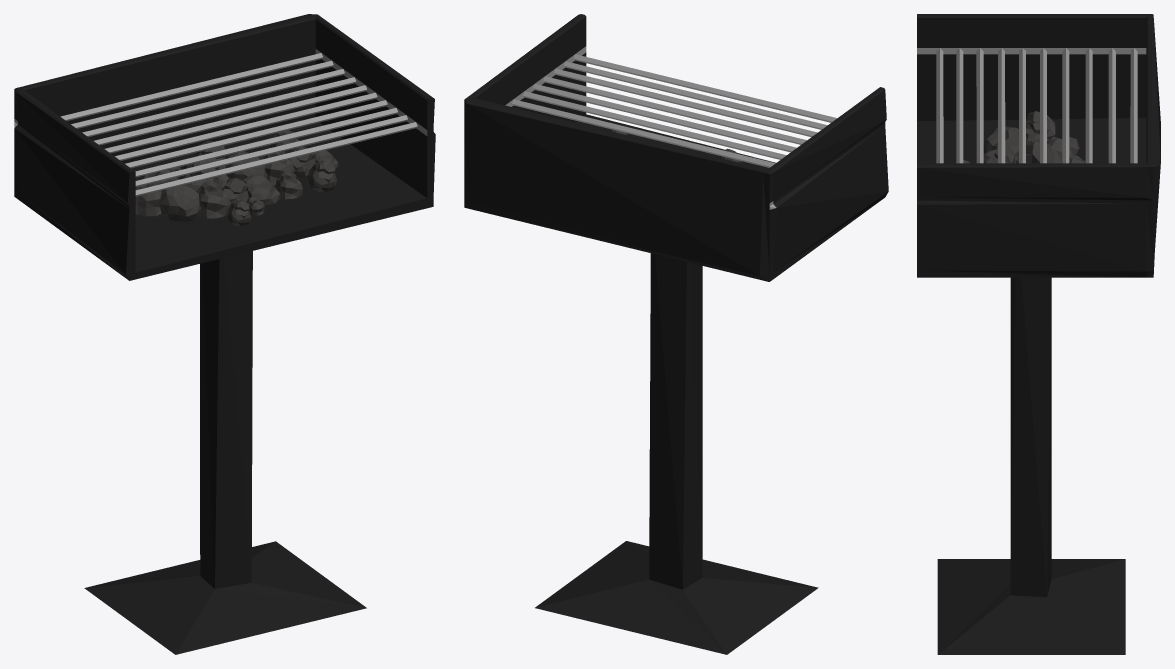
File: SM_bbq_grill_AN.fbx
3 renders of one model, left to right at view 1: azimuth 30°, elevation 25°; view 2: azimuth 150°, elevation 25°; view 3: azimuth 270°, elevation 25°, orthographic. The views are drawn at different scales.
Visible parts, largest first — view 1: SM_bbqgrill_AN; view 2: SM_bbqgrill_AN; view 3: SM_bbqgrill_AN.
Boxes of the visible parts, x1,y1,x2,y2 form: SM_bbqgrill_AN: (14,14,435,654); SM_bbqgrill_AN: (464,14,888,654); SM_bbqgrill_AN: (917,14,1160,654).
Size of the model in its own units: 27.94 by 43.42 by 18.54.
